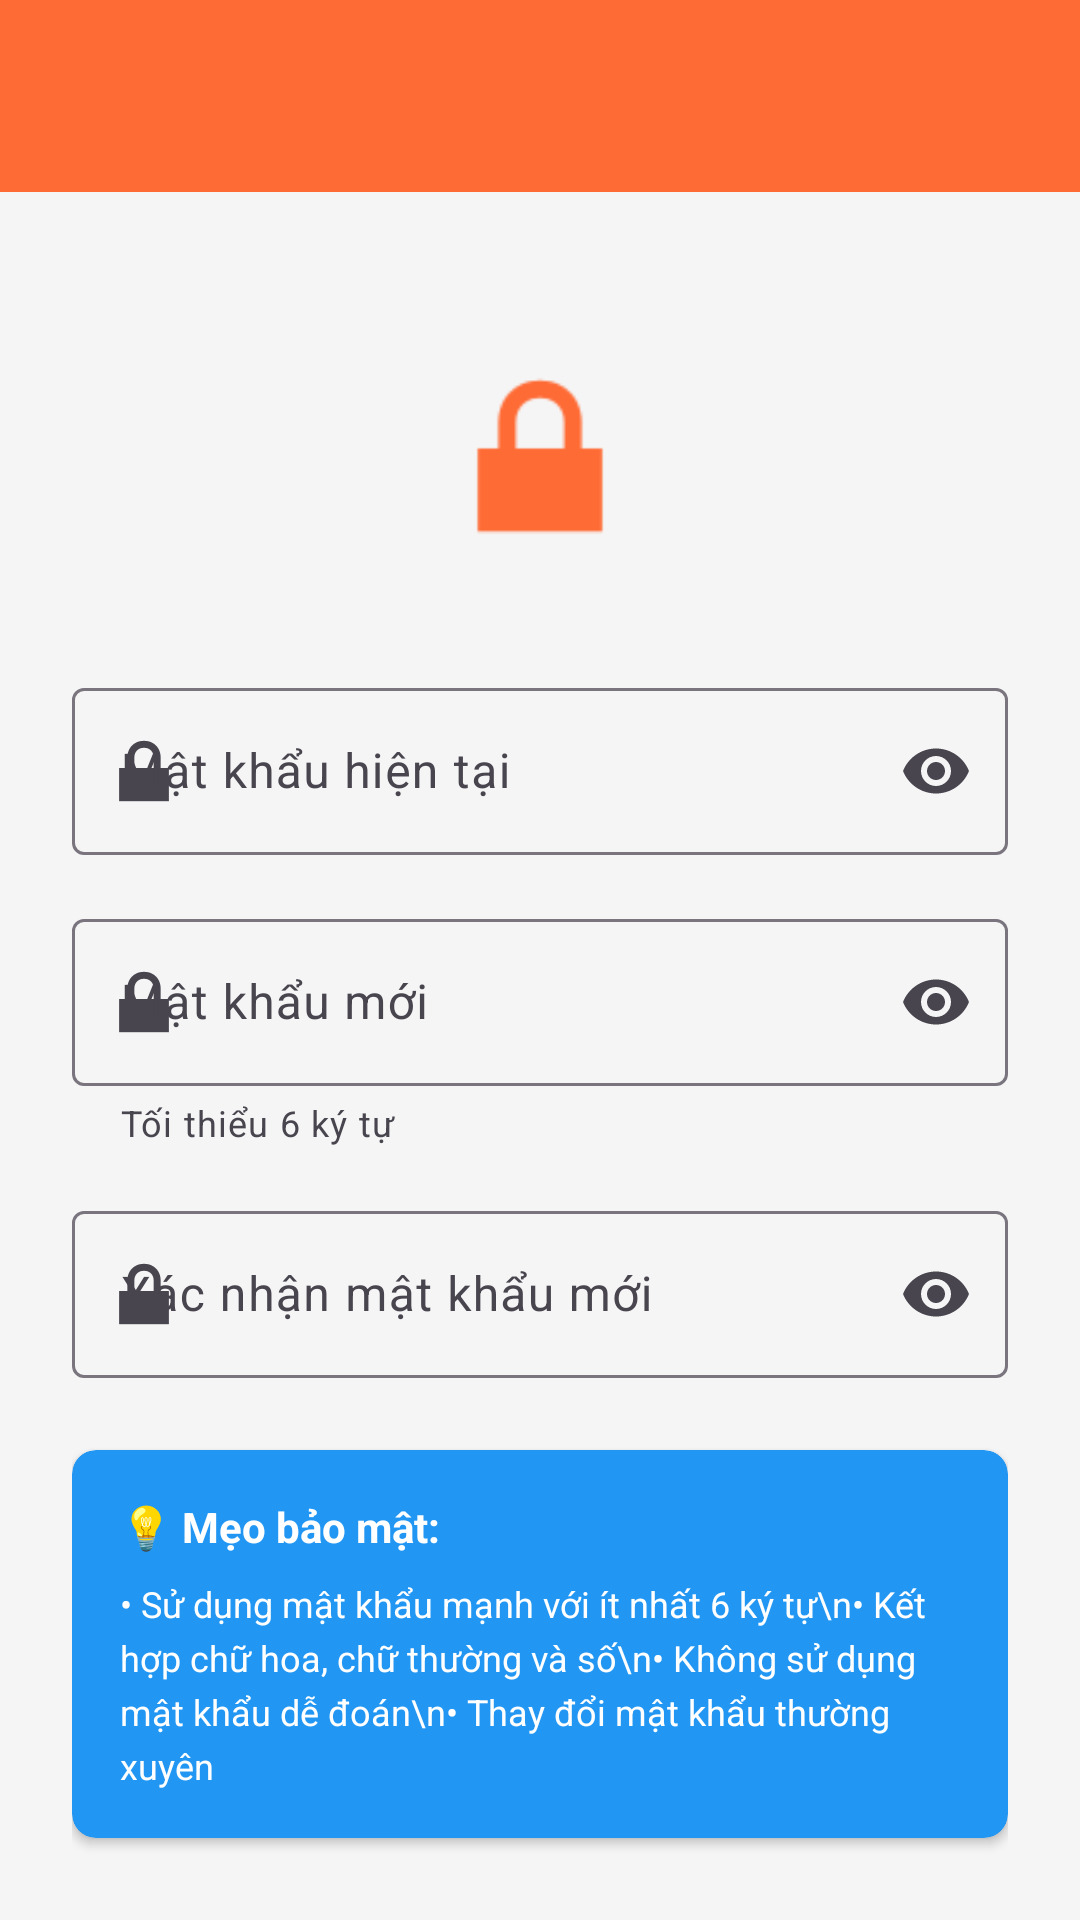

Icon click points for this 1080px×1920px phone screenshot, format [x,y]:
lock: [540,456]
